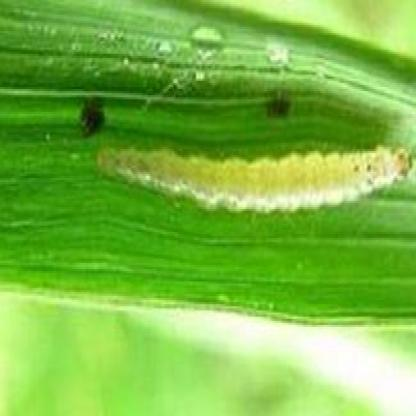leaf-folder: (84, 80, 416, 258)
